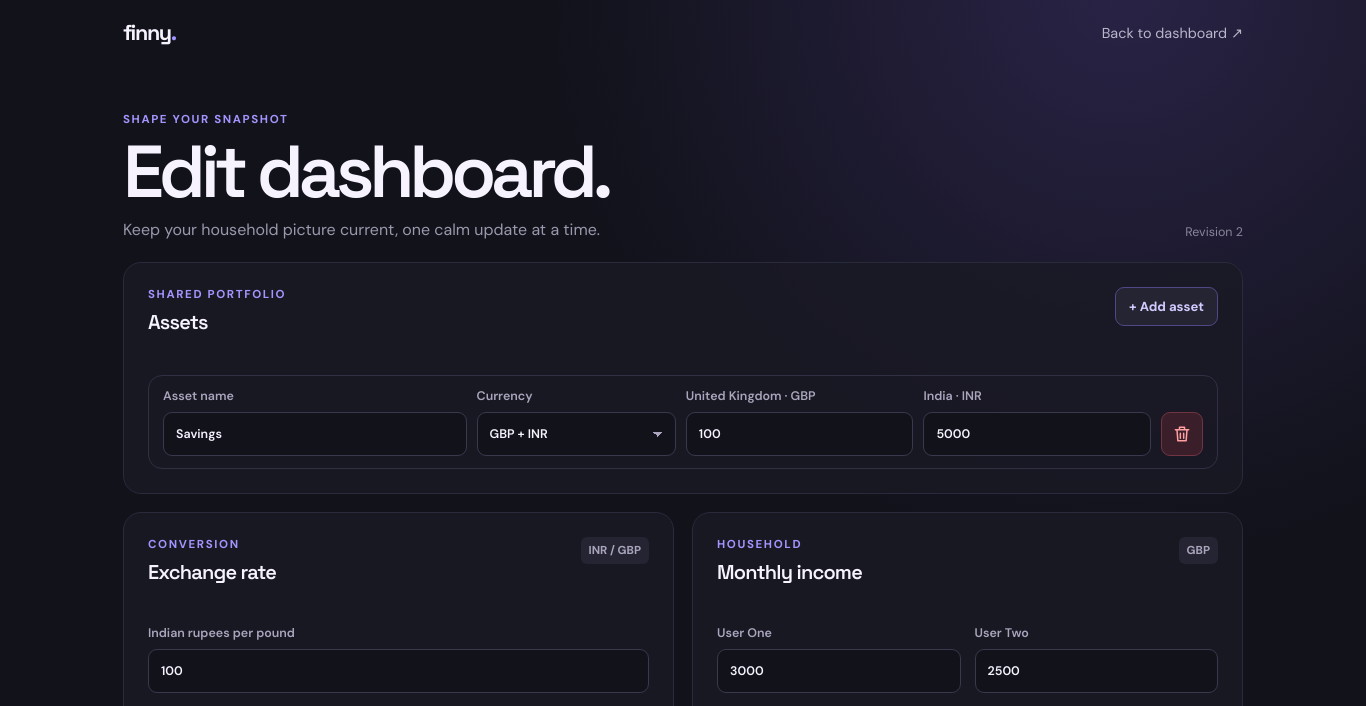
Test: EditDashboardPage › loads the complete graph and submits edited assets, FX, income, and limits
The image size is (1366, 706).
Replace the text in the field showing "Savings" with "House savings" at (315, 434), box [163,412,466,456]
Replace the text in the field named "House savings United Kingdom · GBP value" with "200" at (800, 434), box [686,412,913,456]
Replace the text in the field labelled "Indian rupees per pound" with "105" at (398, 671), box [148,649,649,693]
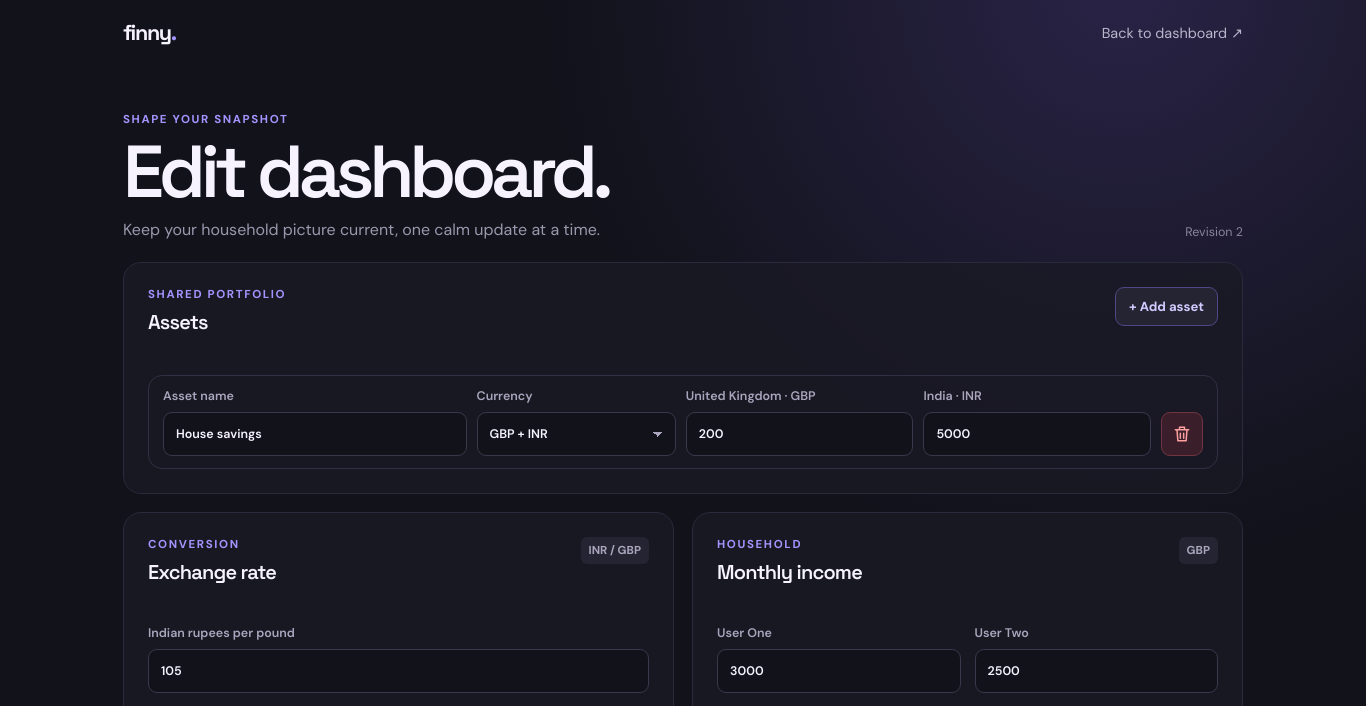
Replace the text in the field named "User One income" with "3200" at (839, 671), box [717,649,960,693]
(page scrolled)
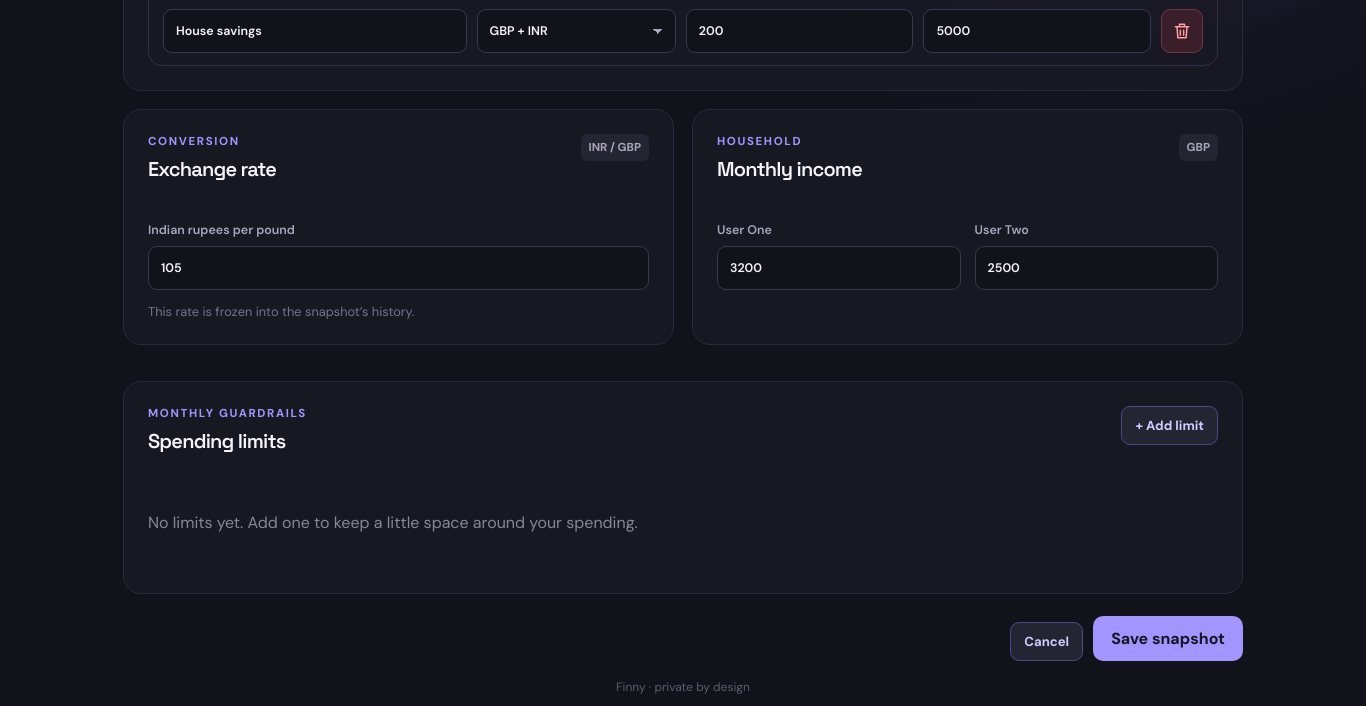
Click the button "+ Add limit".
click(1170, 425)  # box [1121,406,1218,445]
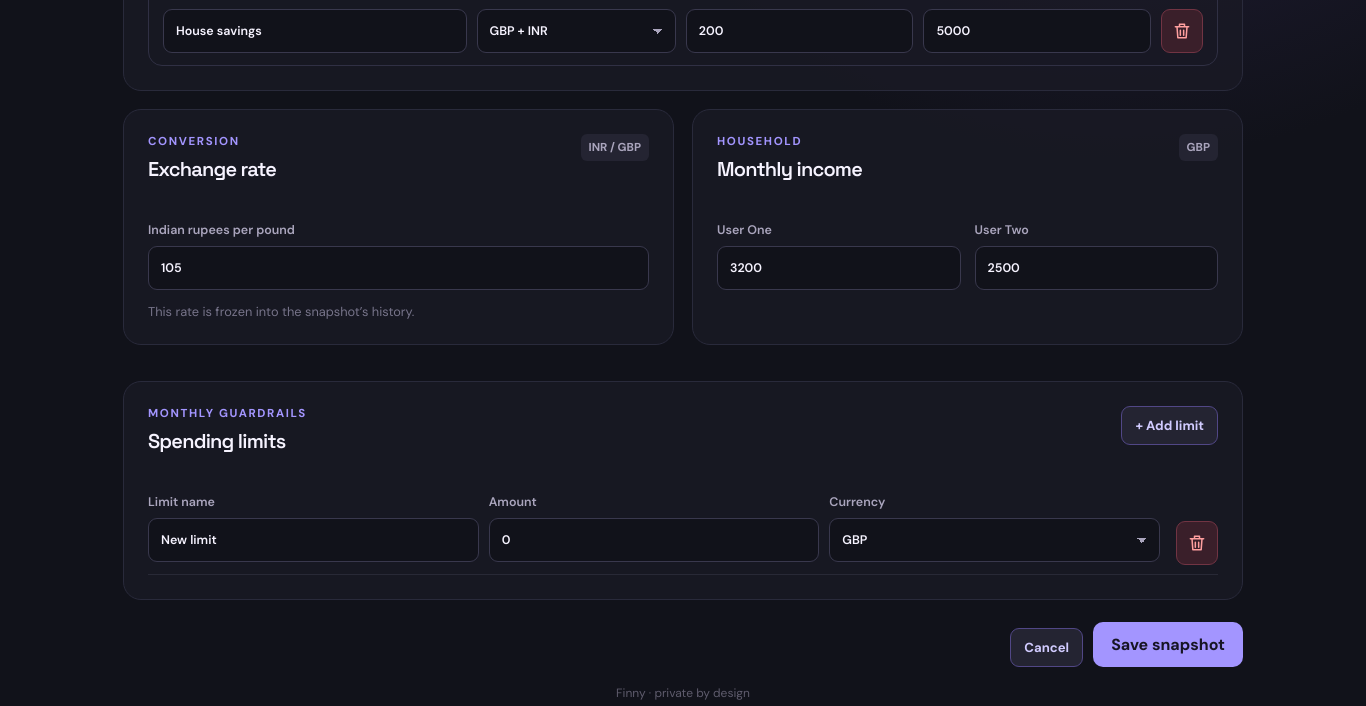
Replace the text in the field named "Spending limit 1 name" with "Fun" at (313, 540), box [148,518,479,562]
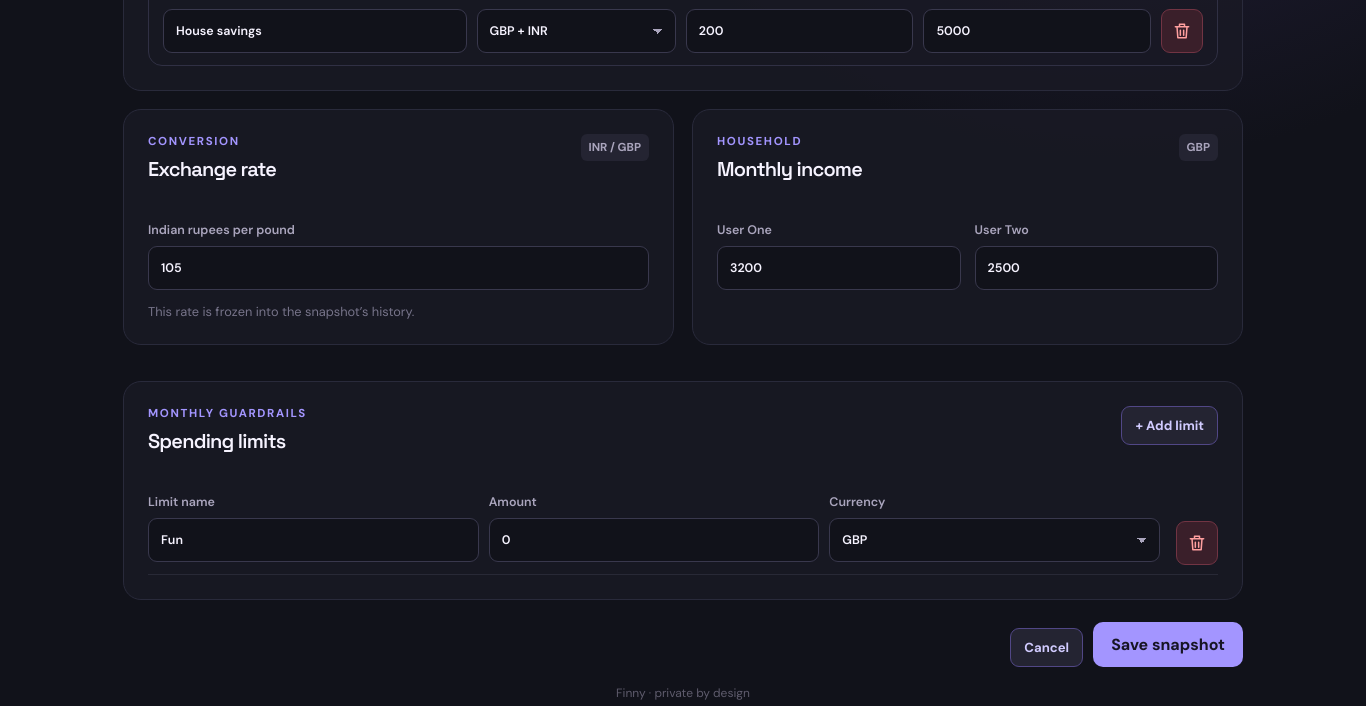
Replace the text in the field named "Spending limit 1 amount" with "250" at (654, 540), box [489,518,819,562]
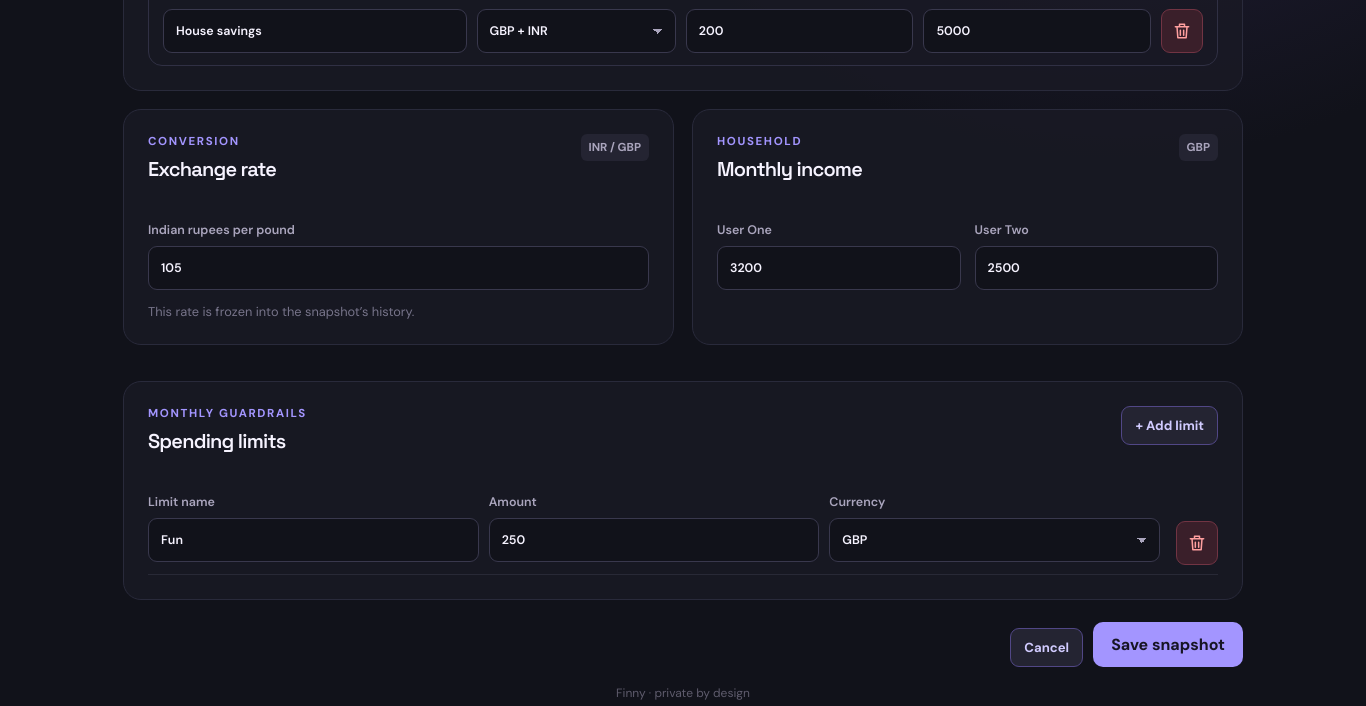
Click the button "Save snapshot".
click(1168, 644)  # box [1093,622,1243,667]
(page scrolled)
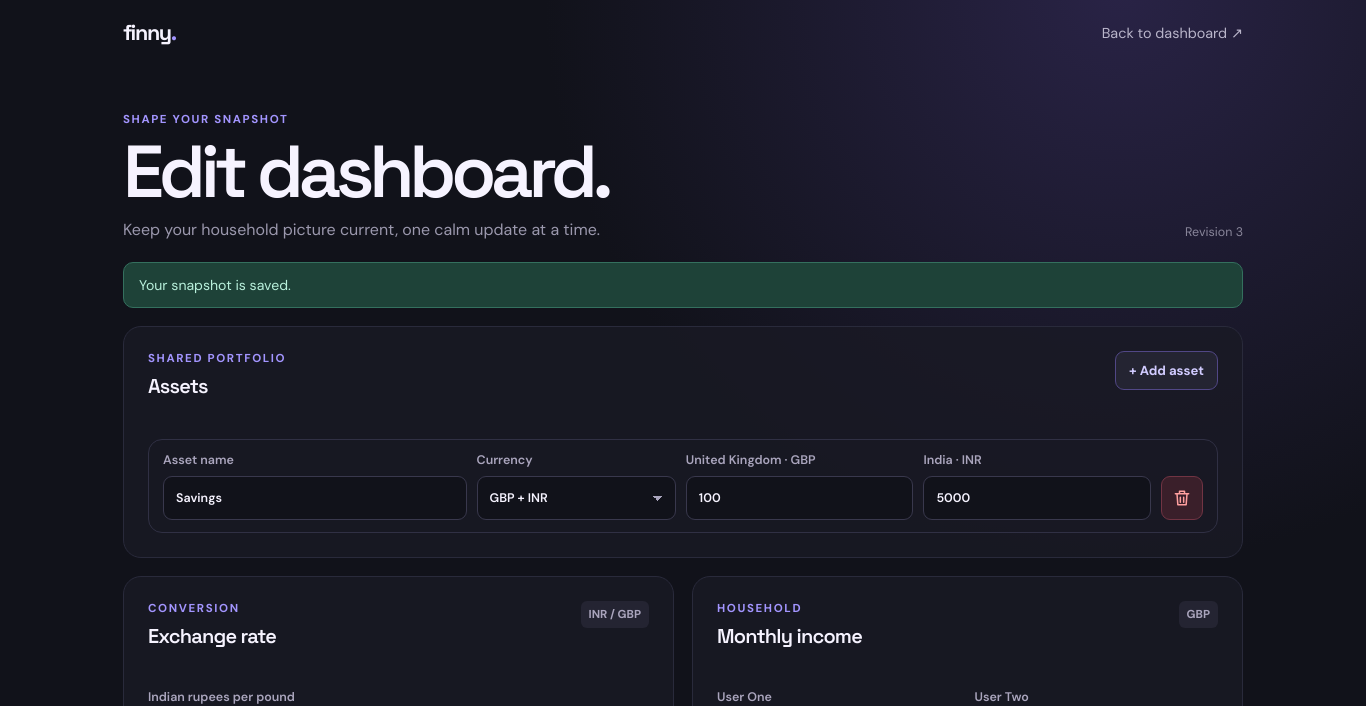
Now the text "Your snapshot is saved." is shown, box [123,262,1243,308]
